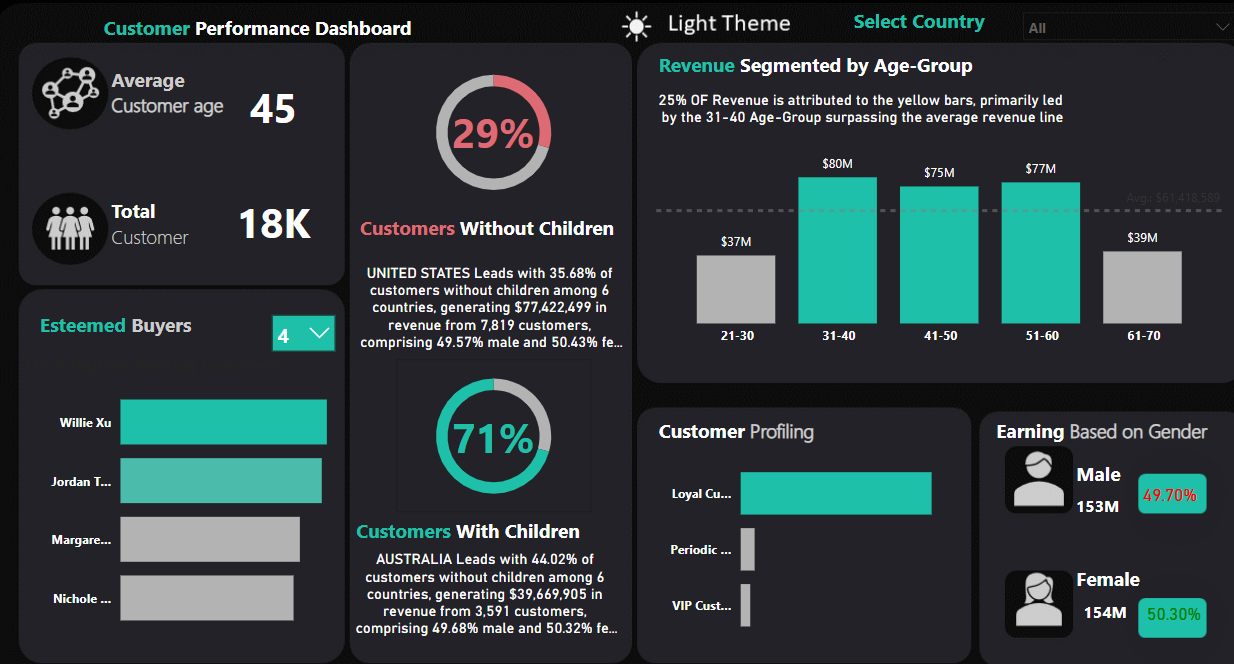

What the dashboard file says about the page in this screenshot:
{"tool":"powerbi","page":{"name":"Dark","canvas":[1280,720],"ordinal":1},"visuals":[{"type":"clusteredColumnChart","fields":{"Category":["DimCustomer.Age Category"],"Y":["All Measures.Total Revenue"]},"box":[658.6,151.4,568.6,208.6],"z":0},{"type":"card","fields":{"Values":["Customers Measures.Avg Caption"]},"box":[641.4,85.7,445.7,65.7],"z":1000},{"type":"textbox","box":[661.4,57.1,338.6,51.4],"z":2000},{"type":"donutChart","fields":{"Y":["Customers Measures.%C without childern","Customers Measures.%CWC"]},"box":[408.6,65.7,191.4,151.4],"z":3000},{"type":"donutChart","fields":{"Y":["Customers Measures.%C without childern","Customers Measures.%CWC"]},"box":[408.6,364.3,191.4,151.4],"z":4000},{"type":"card","fields":{"Values":["Customers Measures.%C without childern"]},"box":[455.7,102.9,97.1,75.7],"z":5000},{"type":"card","fields":{"Values":["Customers Measures.%CWC"]},"box":[455.7,402.9,97.1,75.7],"z":6000},{"type":"textbox","box":[368.6,217.1,268.6,38.6],"z":7000},{"type":"textbox","box":[364.3,515.7,268.6,38.6],"z":8000},{"type":"card","fields":{"Values":["Customers Measures.Caption Customers without Children"]},"box":[364.3,255.7,275.7,115.7],"z":9000},{"type":"card","fields":{"Values":["Customers Measures.Caption Customers with Children"]},"box":[358.6,535.7,278.6,115.7],"z":10000},{"type":"clusteredBarChart","fields":{"Category":["DimCustomer.Customer Type"],"Y":["All Measures.Total Revenue"]},"box":[658.6,440,298.6,215.7],"z":11000},{"type":"clusteredBarChart","fields":{"Category":["DimCustomer.FullName"],"Y":["Customers Measures.Dynamic customers"]},"box":[48.6,368.6,302.9,282.9],"z":12000},{"type":"slicer","fields":{"Values":["Dynamic Customers.Dynamic Customers"]},"box":[275.7,310,82.9,57.1],"z":13000},{"type":"card","fields":{"Values":["Customers Measures.% Female"]},"box":[1135.7,600,71.4,31.4],"z":14000},{"type":"card","fields":{"Values":["Customers Measures.% Male"]},"box":[1135.7,481.4,64.3,34.3],"z":15000},{"type":"card","fields":{"Values":["Customers Measures.Average Customer Age"]},"box":[238.6,72.9,100,88.6],"z":16000},{"type":"card","fields":{"Values":["Customers Measures.#Customers"]},"box":[238.6,187.1,100,82.9],"z":17000},{"type":"textbox","box":[124.3,72.9,128.6,95.7],"z":18000},{"type":"textbox","box":[124.3,201.4,100,68.6],"z":19000},{"type":"textbox","box":[1071.4,561.4,85.7,38.6],"z":20000},{"type":"textbox","box":[1071.4,458.6,71.4,45.7],"z":21000},{"type":"textbox","box":[54.3,312.9,170,51.4],"z":22000},{"type":"card","fields":{"Values":["Customers Measures.Title Top Customers"]},"box":[30,347.1,280,47.1],"z":23000},{"type":"textbox","box":[992.9,417.1,245.7,41.4],"z":24000},{"type":"card","fields":{"Values":["Customers Measures.Male Revenue"]},"box":[1058.6,495.7,77.1,27.1],"z":25000},{"type":"card","fields":{"Values":["Customers Measures.Female Revenue"]},"box":[1065.7,600,77.1,27.1],"z":26000},{"type":"textbox","box":[117.1,21.4,495.7,35.7],"z":27000},{"type":"slicer","fields":{"Values":["DimGeography.Country"]},"box":[1014,14,228.6,51.4],"z":28000},{"type":"textbox","box":[852.9,14.3,162.9,42.9],"z":29000},{"type":"textbox","box":[661.4,417.1,202.9,41.4],"z":30000}]}

Visuals, with their boxes on the page's 1280x720 design canvas (x1, y1, x2, y2). These are canvas units, not pixel positions in the 1234x664 screenshot, which may show the page scaled, cropped or inside an application window:
clusteredColumnChart - DimCustomer.Age Category x All Measures.Total Revenue: rect(659, 151, 1227, 360)
card - Customers Measures.Avg Caption: rect(641, 86, 1087, 151)
textbox: rect(661, 57, 1000, 108)
donutChart - Customers Measures.%C without childern x Customers Measures.%CWC: rect(409, 66, 600, 217)
donutChart - Customers Measures.%C without childern x Customers Measures.%CWC: rect(409, 364, 600, 516)
card - Customers Measures.%C without childern: rect(456, 103, 553, 179)
card - Customers Measures.%CWC: rect(456, 403, 553, 479)
textbox: rect(369, 217, 637, 256)
textbox: rect(364, 516, 633, 554)
card - Customers Measures.Caption Customers without Children: rect(364, 256, 640, 371)
card - Customers Measures.Caption Customers with Children: rect(359, 536, 637, 651)
clusteredBarChart - DimCustomer.Customer Type x All Measures.Total Revenue: rect(659, 440, 957, 656)
clusteredBarChart - DimCustomer.FullName x Customers Measures.Dynamic customers: rect(49, 369, 352, 652)
slicer - Dynamic Customers.Dynamic Customers: rect(276, 310, 359, 367)
card - Customers Measures.% Female: rect(1136, 600, 1207, 631)
card - Customers Measures.% Male: rect(1136, 481, 1200, 516)
card - Customers Measures.Average Customer Age: rect(239, 73, 339, 162)
card - Customers Measures.#Customers: rect(239, 187, 339, 270)
textbox: rect(124, 73, 253, 169)
textbox: rect(124, 201, 224, 270)
textbox: rect(1071, 561, 1157, 600)
textbox: rect(1071, 459, 1143, 504)
textbox: rect(54, 313, 224, 364)
card - Customers Measures.Title Top Customers: rect(30, 347, 310, 394)
textbox: rect(993, 417, 1239, 458)
card - Customers Measures.Male Revenue: rect(1059, 496, 1136, 523)
card - Customers Measures.Female Revenue: rect(1066, 600, 1143, 627)
textbox: rect(117, 21, 613, 57)
slicer - DimGeography.Country: rect(1014, 14, 1243, 65)
textbox: rect(853, 14, 1016, 57)
textbox: rect(661, 417, 864, 458)
